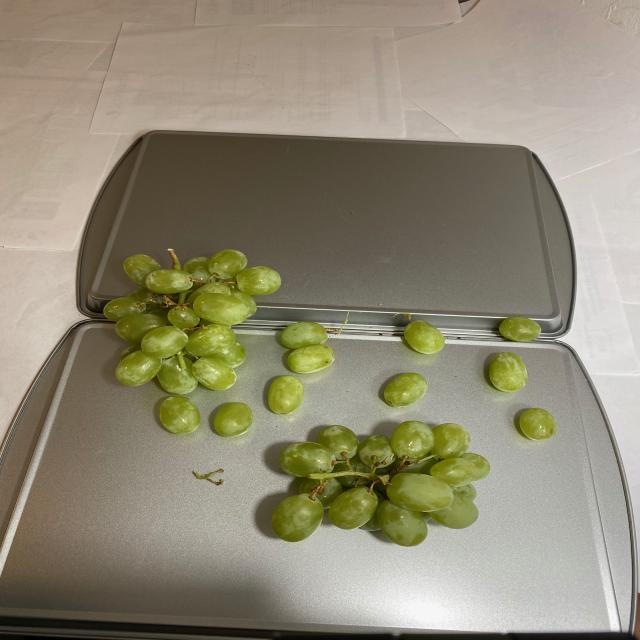grapes: (103, 250, 556, 542)
